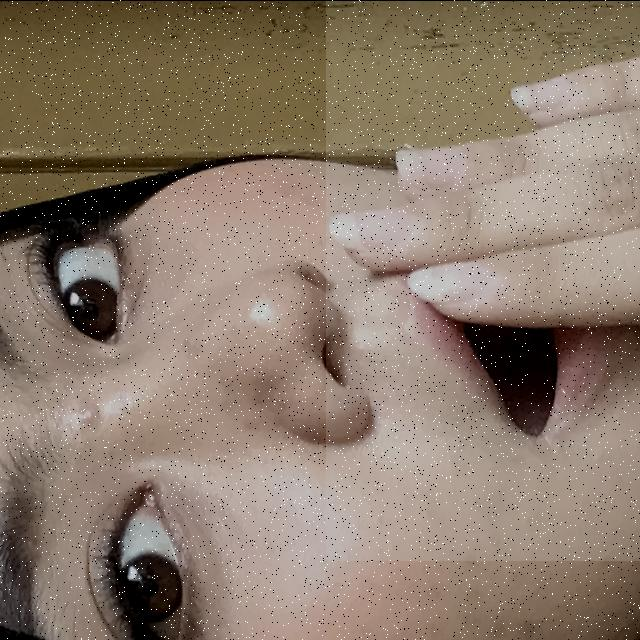ngantuk: (326, 0, 640, 560)
